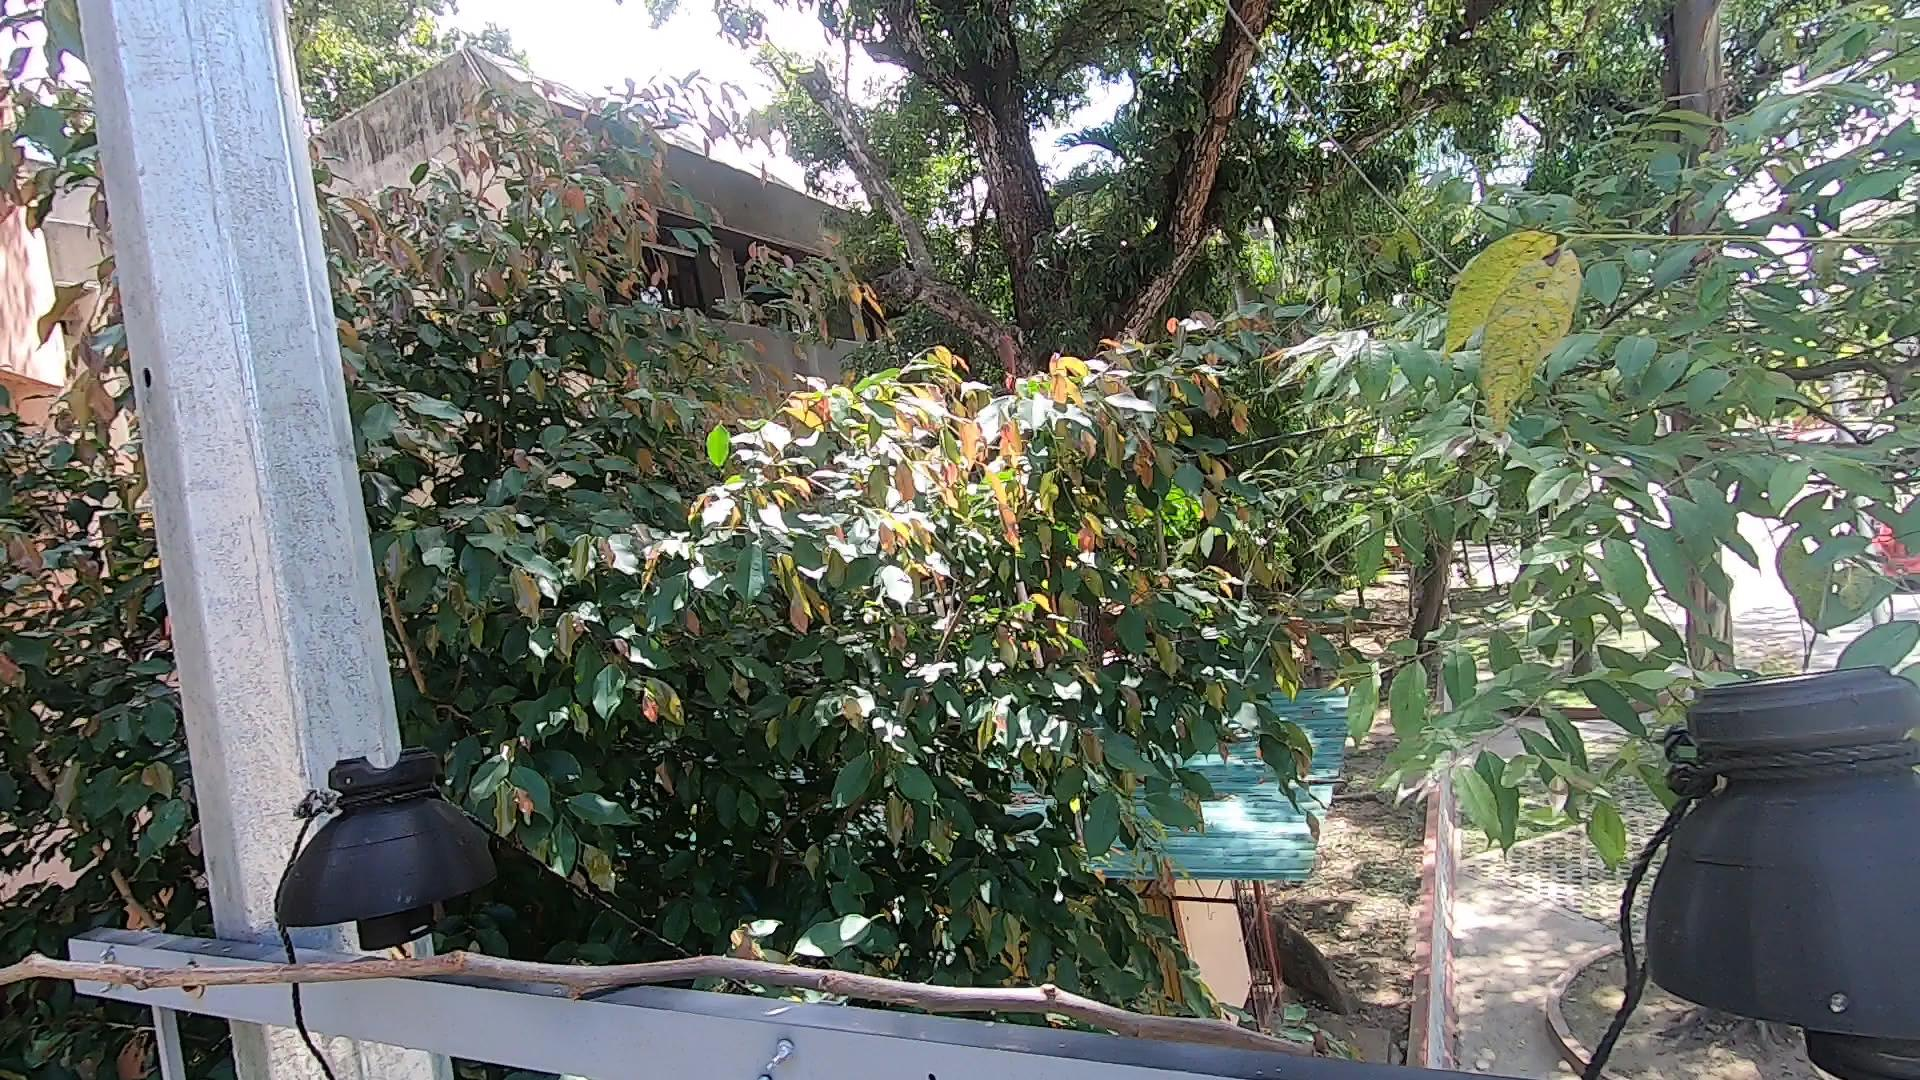tree branch: (1, 945, 1411, 1013)
